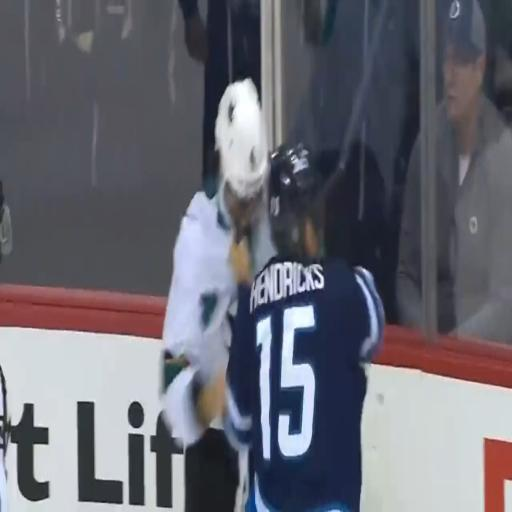violencia: (152, 55, 389, 512)
